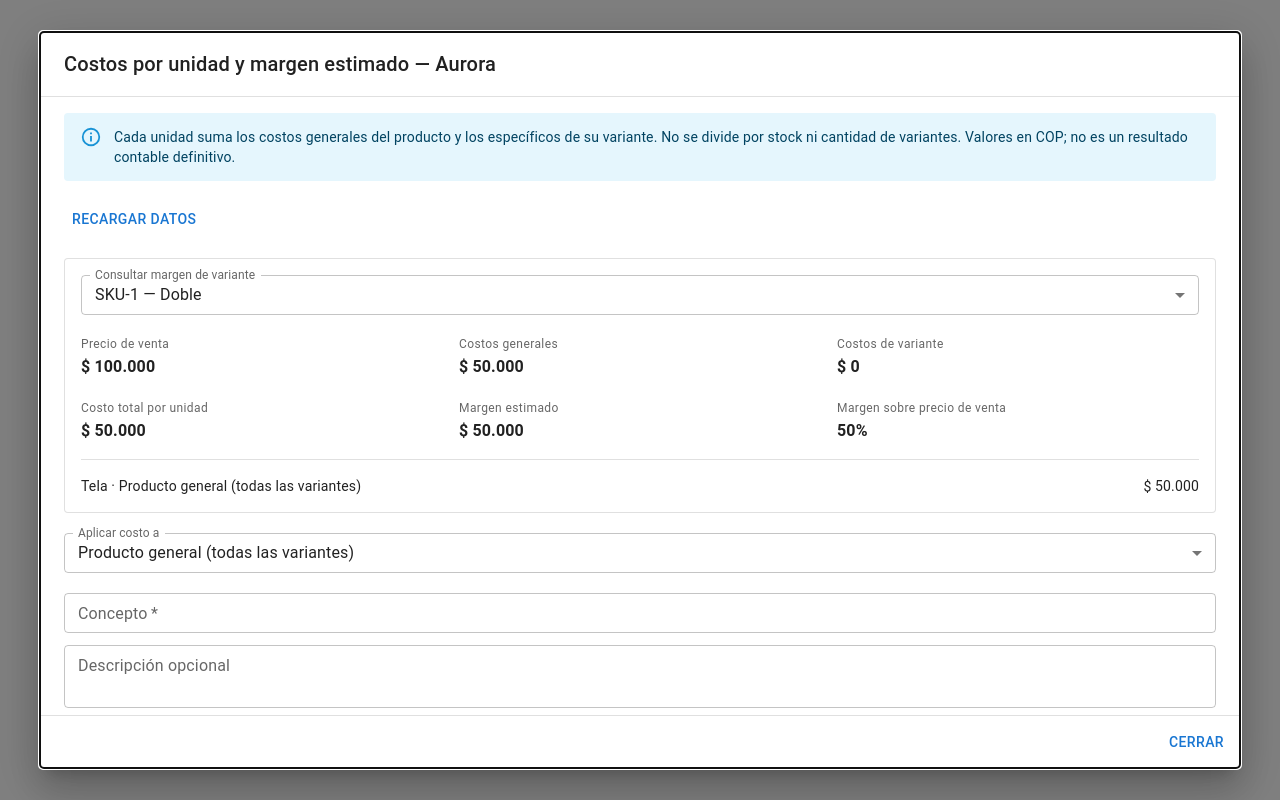
Test case: catalog costs operational UI › follows the cost scope in the margin summary
The image size is (1280, 800).
Press the mouse on the dropdown named "Aplicar costo a" at (216, 552), box 78,543 -> 354,562
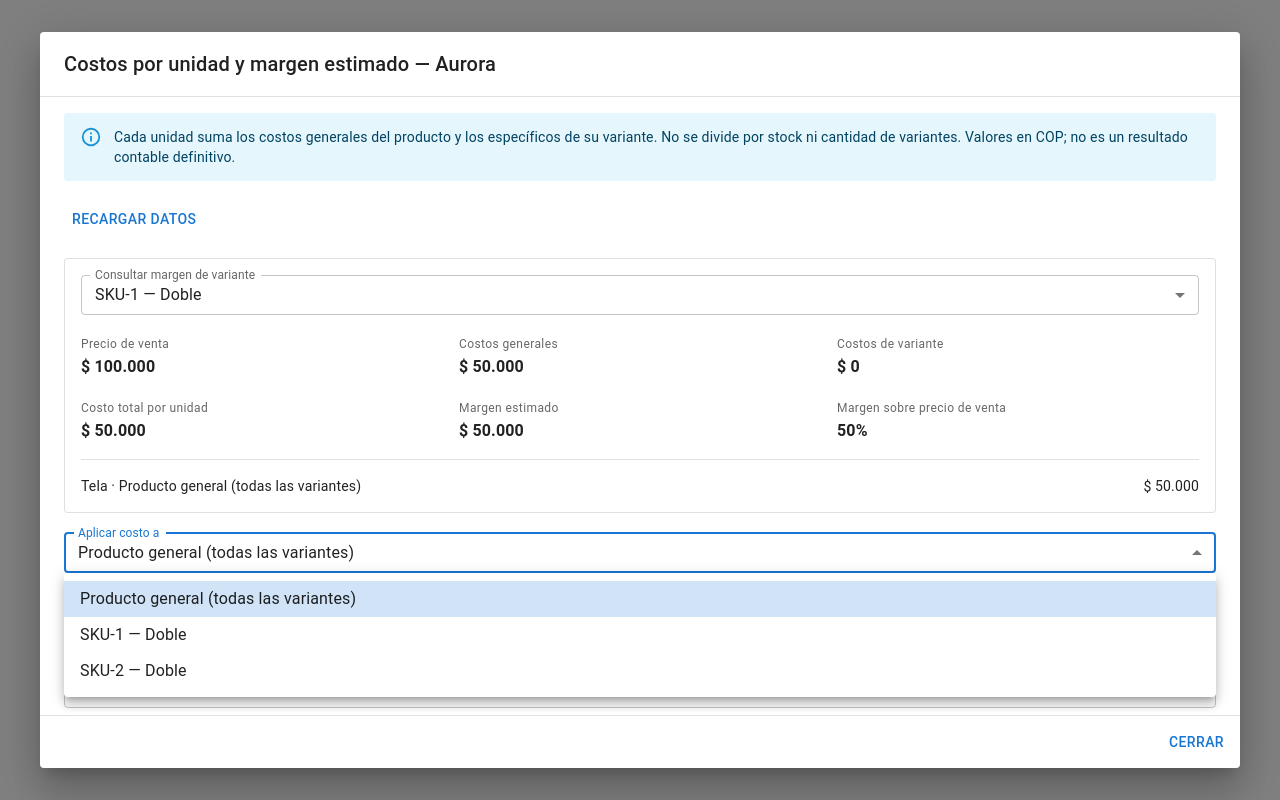
Click the option "SKU-2 — Doble".
click(133, 670)  # box 80,661 -> 187,680
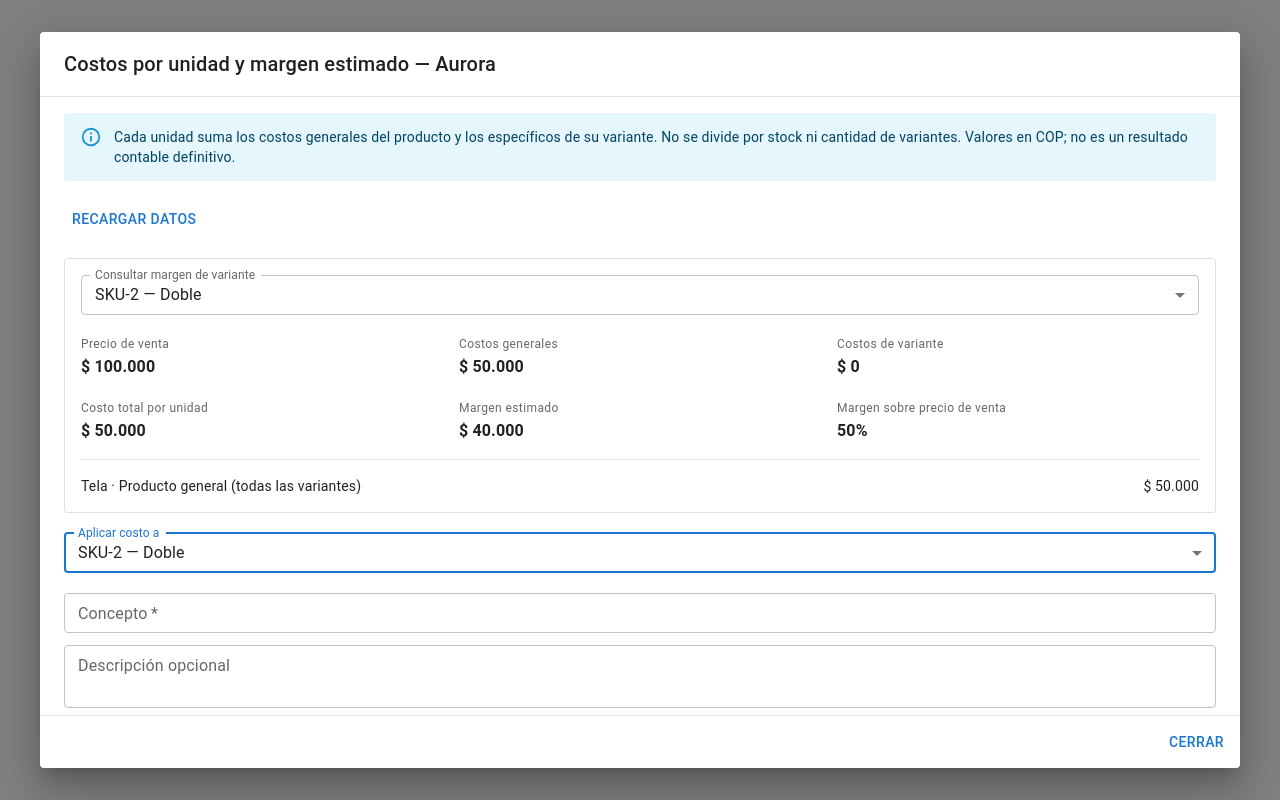
expect the dropdown named "Consultar margen de variante" shows "SKU-2": met, box 95,285 -> 202,304
